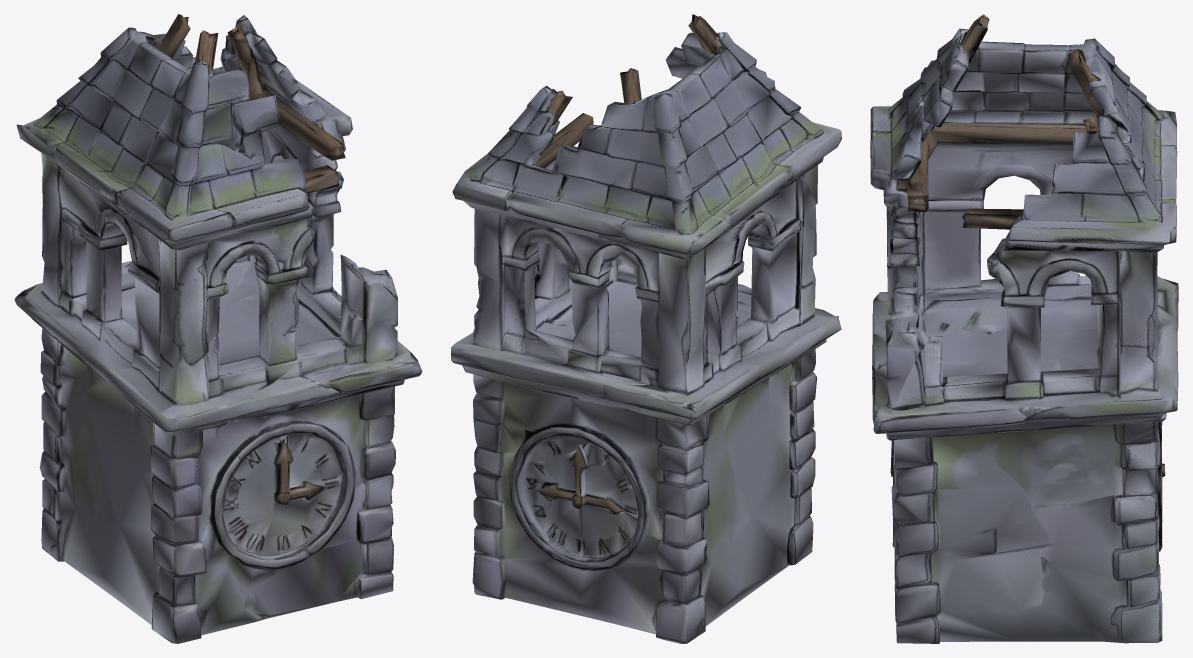
File: clock_tower.glb
The picture shows the model from 3 angles, left to right: view 1: azimuth 30°, elevation 25°; view 2: azimuth 150°, elevation 25°; view 3: azimuth 270°, elevation 25°; orthographic projection. The views are drawn at different scales.
Parts seen in each view (by area): view 1: clock_tower; view 2: clock_tower; view 3: clock_tower.
Boxes of the visible parts, x1,y1,x2,y2 form: clock_tower: (14,14,422,643); clock_tower: (451,14,841,643); clock_tower: (870,14,1178,643).
Bounding box in the file's own units: 7.12 × 15 × 7.49.
1 material, 1 textured.
